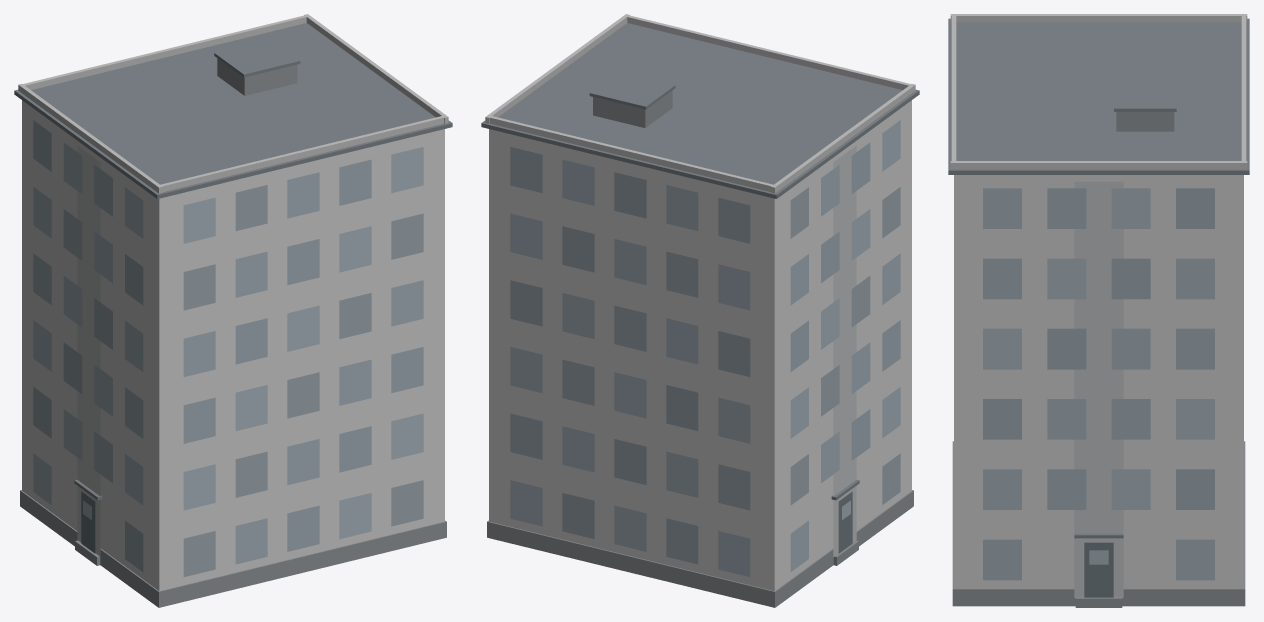
Rendered from block_2.glb.
The picture shows the model from 3 angles, left to right: view 1: azimuth 30°, elevation 25°; view 2: azimuth 150°, elevation 25°; view 3: azimuth 270°, elevation 25°; orthographic projection. The views are drawn at different scales.
Parts seen in each view (by area): view 1: block_2; view 2: block_2; view 3: block_2.
Part boxes in pixels (box(x1,y1,x2,y2)): block_2: box(14, 14, 452, 607); block_2: box(481, 14, 919, 607); block_2: box(948, 14, 1249, 607).
Bounding box in the file's own units: 12.4 × 17.57 × 10.4.
